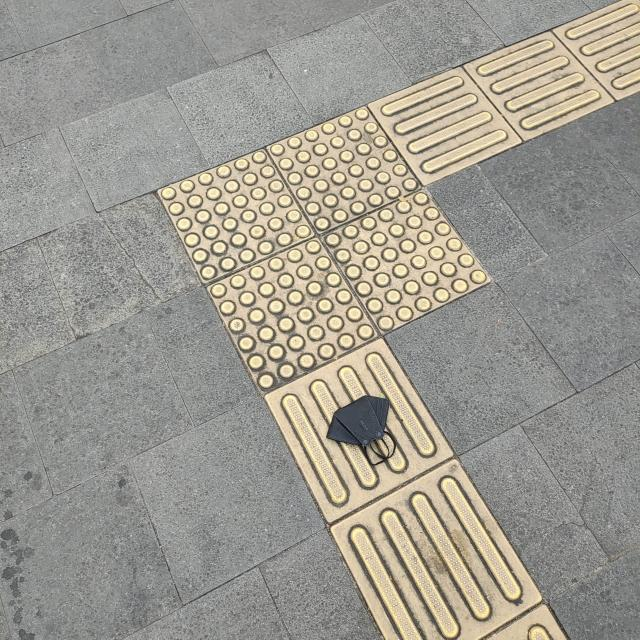kanan: (79, 30, 640, 430)
